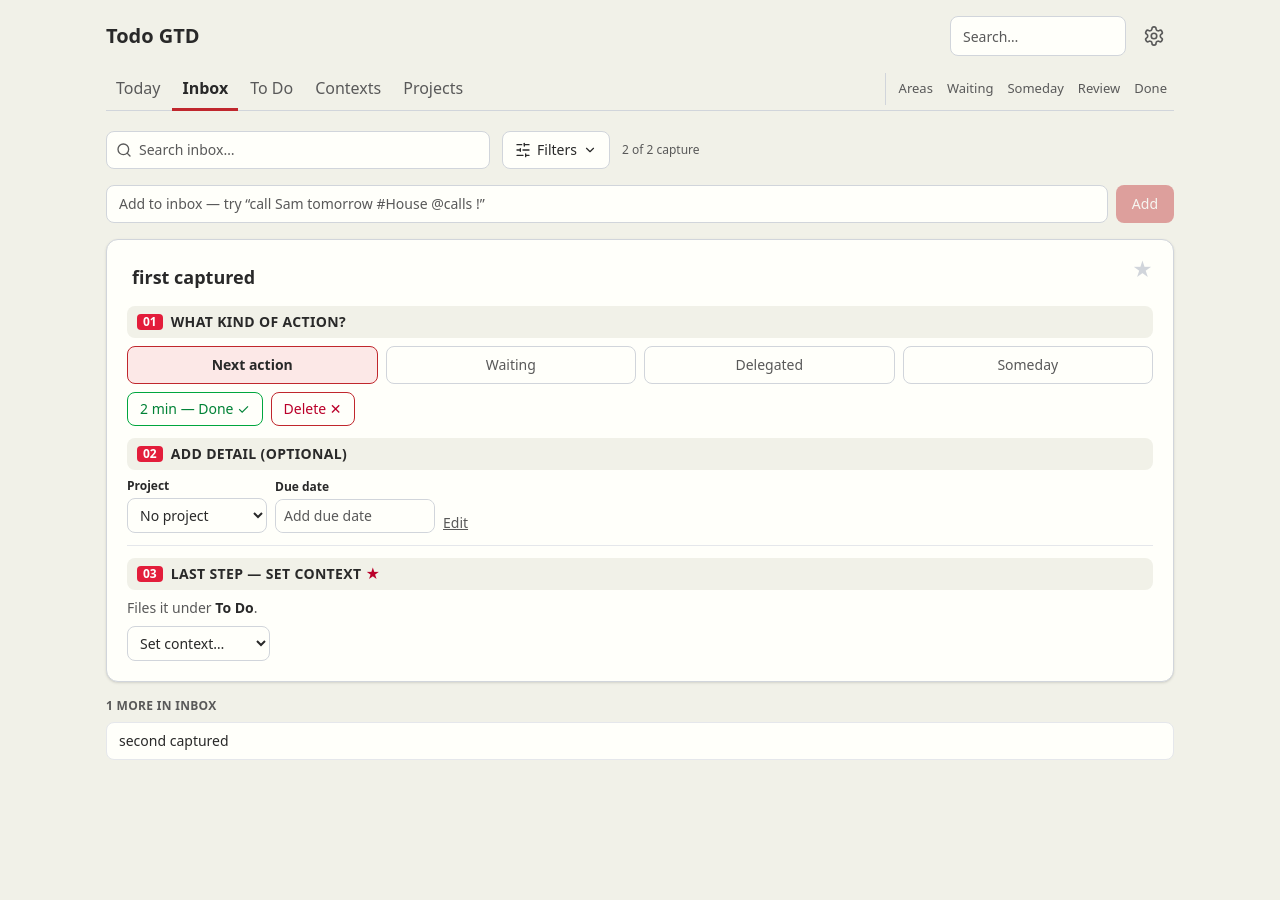
Test case: InboxPage triage selection › advances to the next item once one is filed
Step 1. Click the button "second captured" → (174, 740), box [106,722,1174,760]
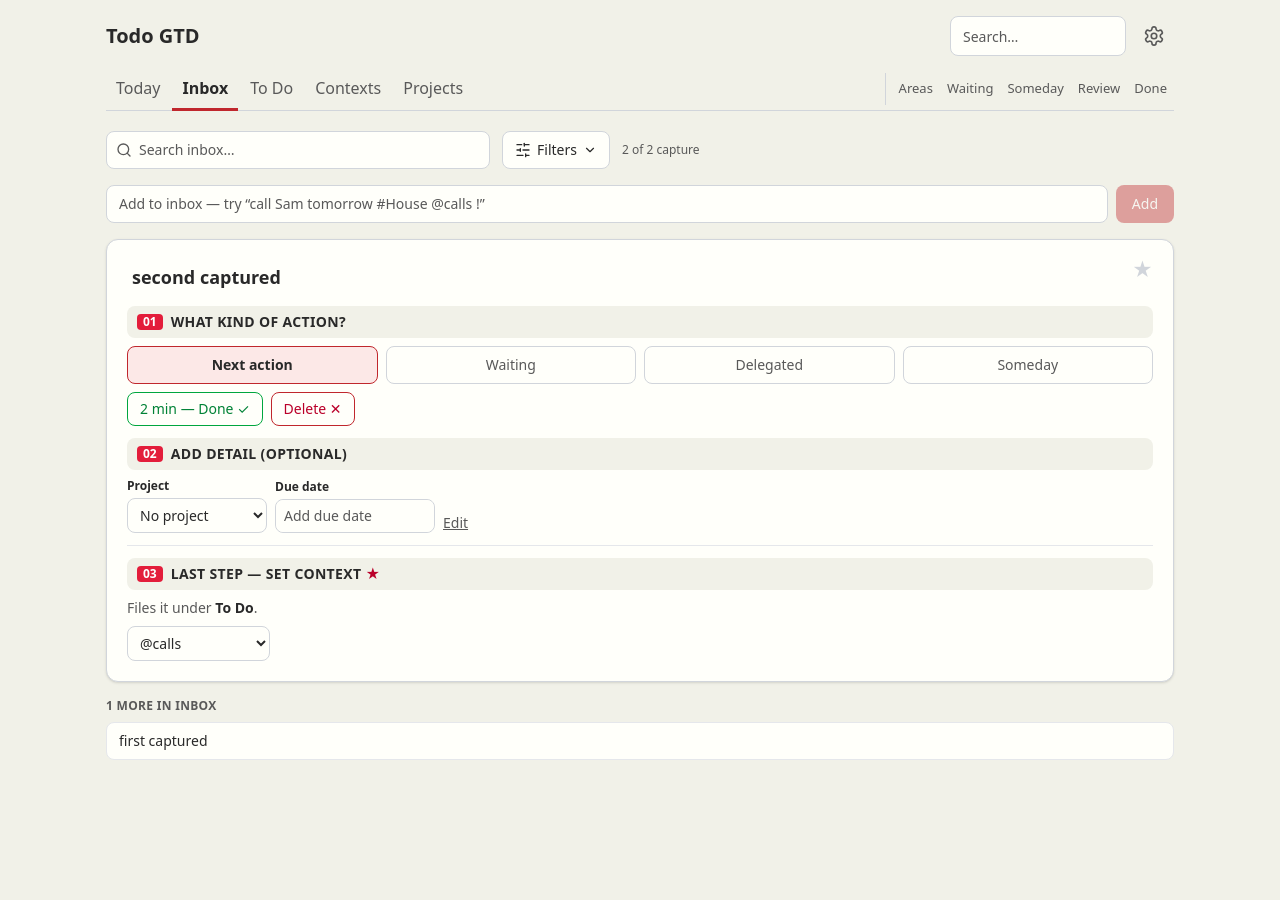
Now the button titled "Click to rename" reads "second captured", box [127,260,286,294]
Step 2. Select "@calls" in the dropdown named "Set context and file this todo" → (198, 644), box [127,626,270,661]
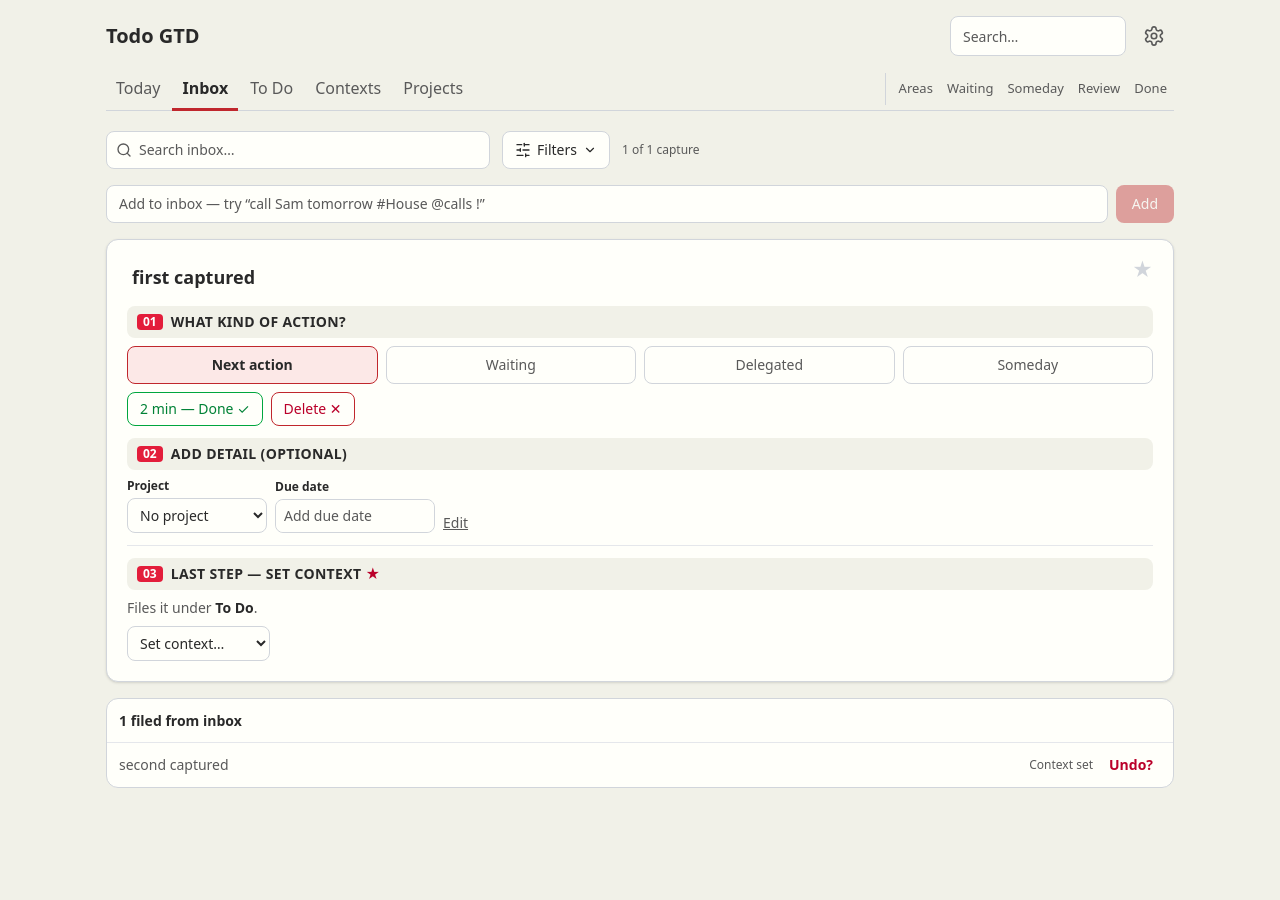
Now the button titled "Click to rename" reads "first captured", box [127,260,260,294]
